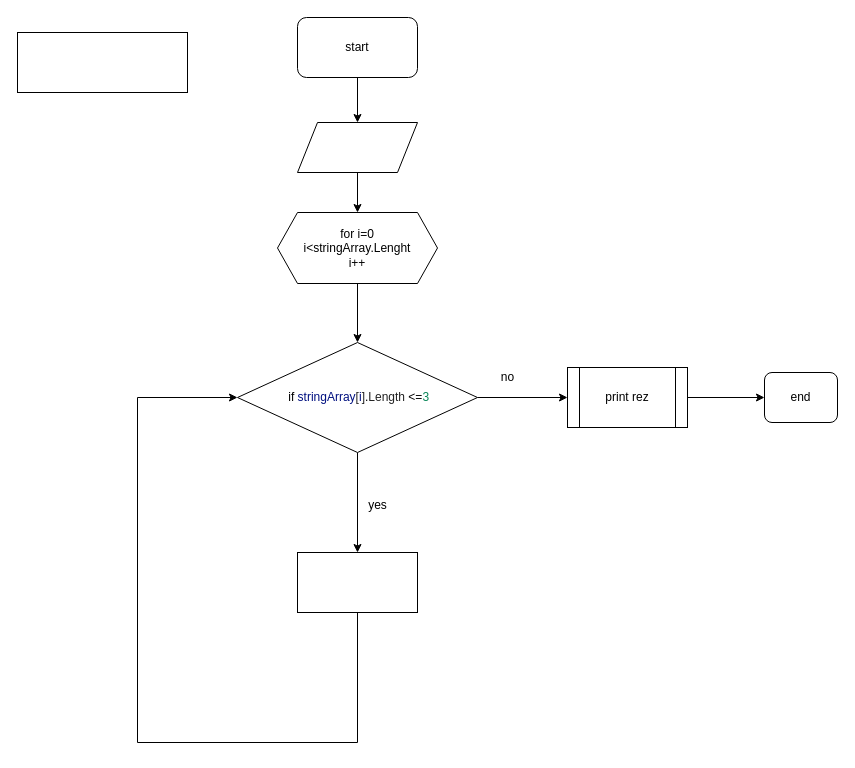
This 855x768 diagram has some shape labels left out. The centre of each missing label's shape, as x and y in pixels:
rez [j] = steingArray[i] j++: the point at 357,582
string Array [] rez [] n=0: the point at 357,147
Описание метода symbol: the point at 102,62
